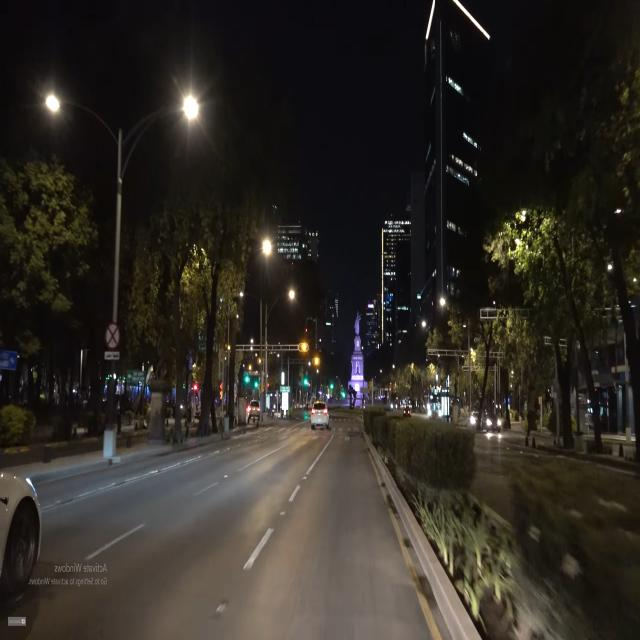headlights: (484, 410, 506, 430)
